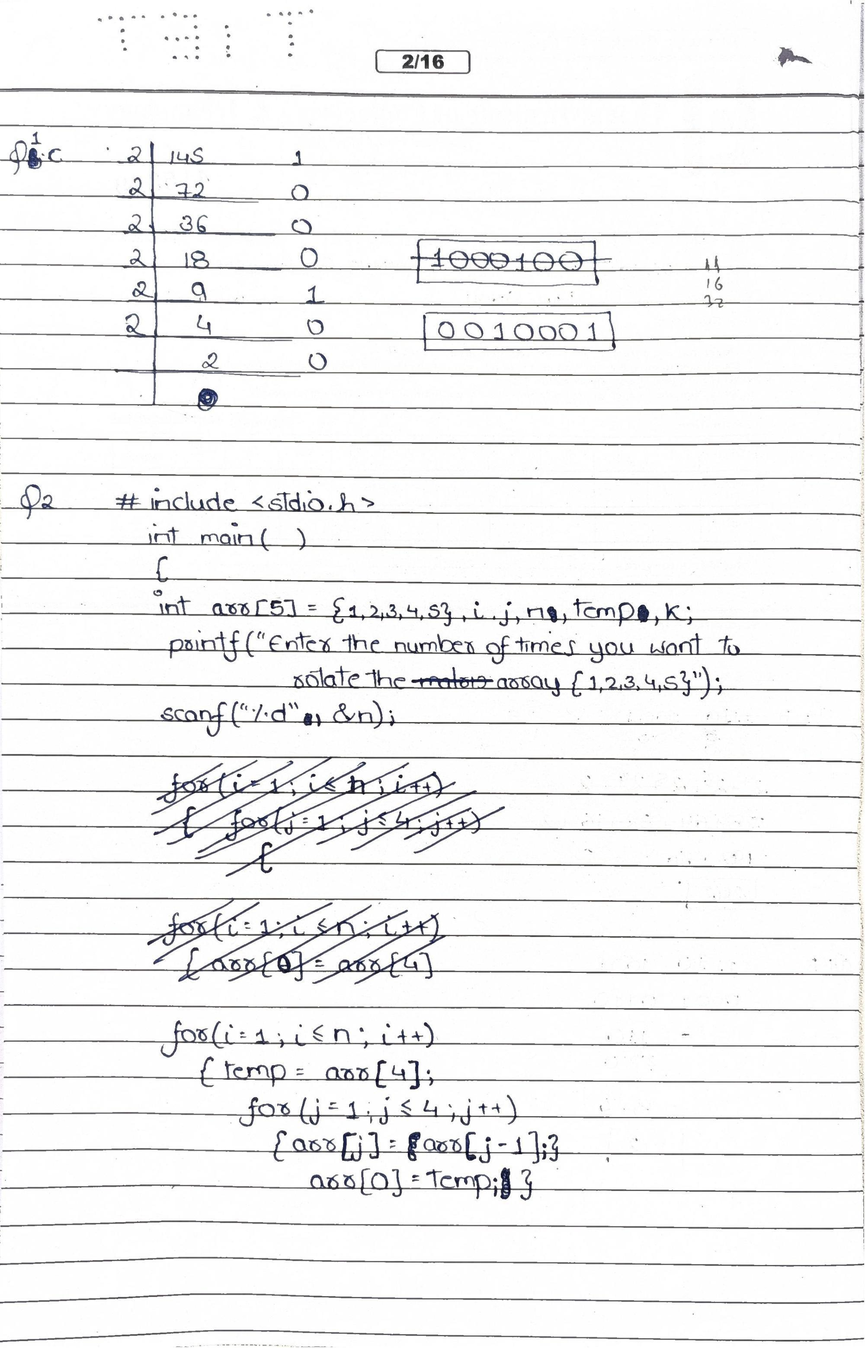cuttings: (150, 755, 507, 879), (144, 896, 447, 986), (408, 238, 614, 289), (410, 665, 495, 690), (196, 387, 219, 411), (406, 1130, 423, 1162), (26, 146, 43, 170), (500, 1167, 511, 1200), (637, 603, 650, 623), (547, 605, 558, 624), (303, 712, 313, 726)
